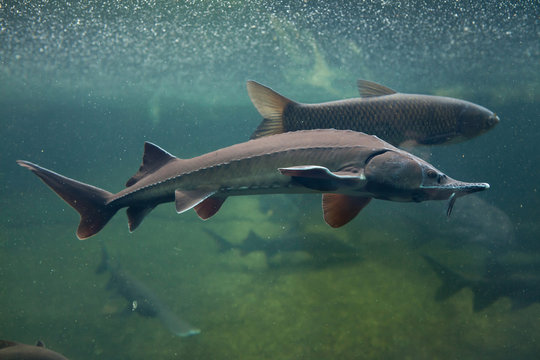Sturgeon: (4, 135, 519, 252)
